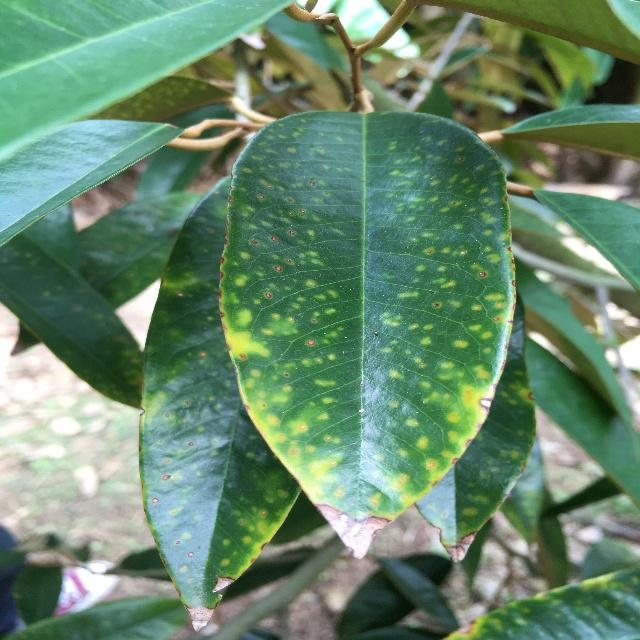Leaf Spot: (132, 103, 541, 632)
